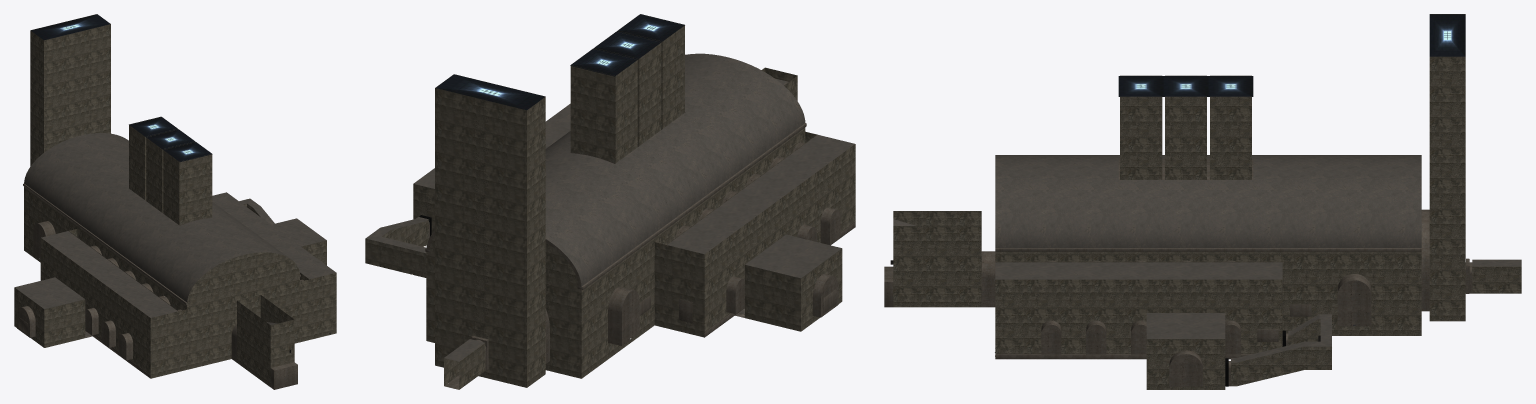
The model's file is temple.glb.
The picture shows the model from 3 angles, left to right: view 1: azimuth 30°, elevation 25°; view 2: azimuth 150°, elevation 25°; view 3: azimuth 270°, elevation 25°; orthographic projection. The views are drawn at different scales.
Visible parts, largest first — view 1: LM_walls, LM_vault, LM_columns, LM_floor; view 2: LM_walls, LM_vault, LM_columns, LM_props; view 3: LM_vault, LM_walls, LM_columns, LM_props, LM_floor.
Boxes of the visible parts, bbox=[...] form: LM_walls: bbox=[14, 14, 336, 386]; LM_vault: bbox=[15, 14, 336, 325]; LM_columns: bbox=[23, 183, 308, 311]; LM_floor: bbox=[85, 331, 297, 389]; LM_walls: bbox=[365, 67, 855, 389]; LM_vault: bbox=[365, 14, 854, 361]; LM_columns: bbox=[425, 112, 817, 289]; LM_props: bbox=[412, 246, 836, 325]; LM_vault: bbox=[893, 14, 1521, 362]; LM_walls: bbox=[890, 14, 1521, 389]; LM_columns: bbox=[995, 159, 1421, 262]; LM_props: bbox=[995, 304, 1311, 356]; LM_floor: bbox=[884, 266, 1230, 359].
Bounding box in the file's own units: 39.62 × 26.5 × 56.78.
Materials: 47 (34 with a texture image).
